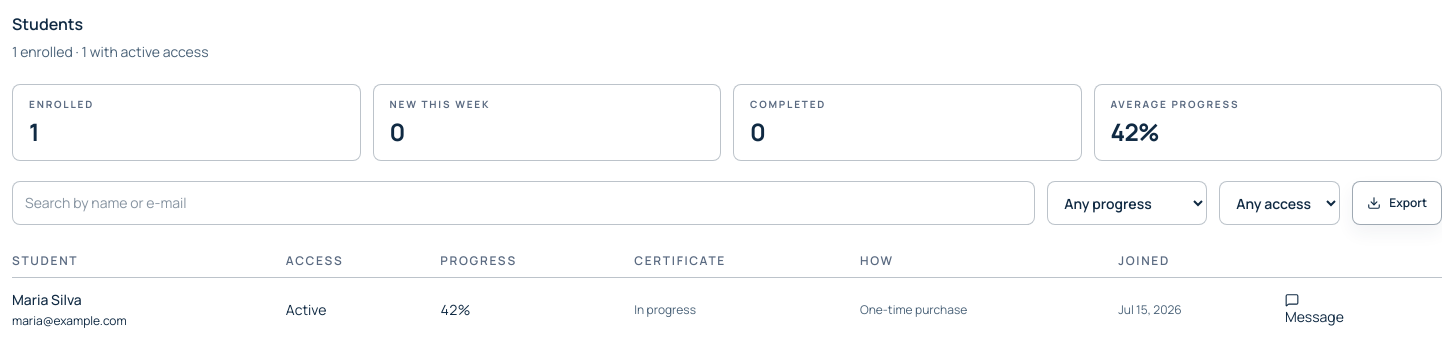
CourseStudentRosterView › says so when the filters match nobody, instead of showing a blank table
Select "Revoked" in the 2nd dropdown named "Filter by access" at (1280, 203), box x1=1219 y1=181 x2=1340 y2=225
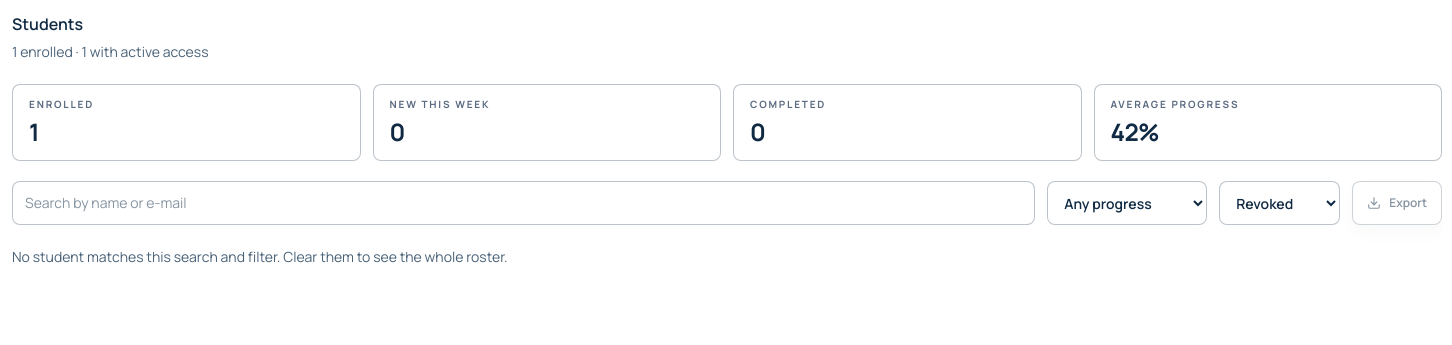
Result: the text "No student matches this search and filter" is shown at x1=12 y1=247 x2=508 y2=266
Result: the table is gone
